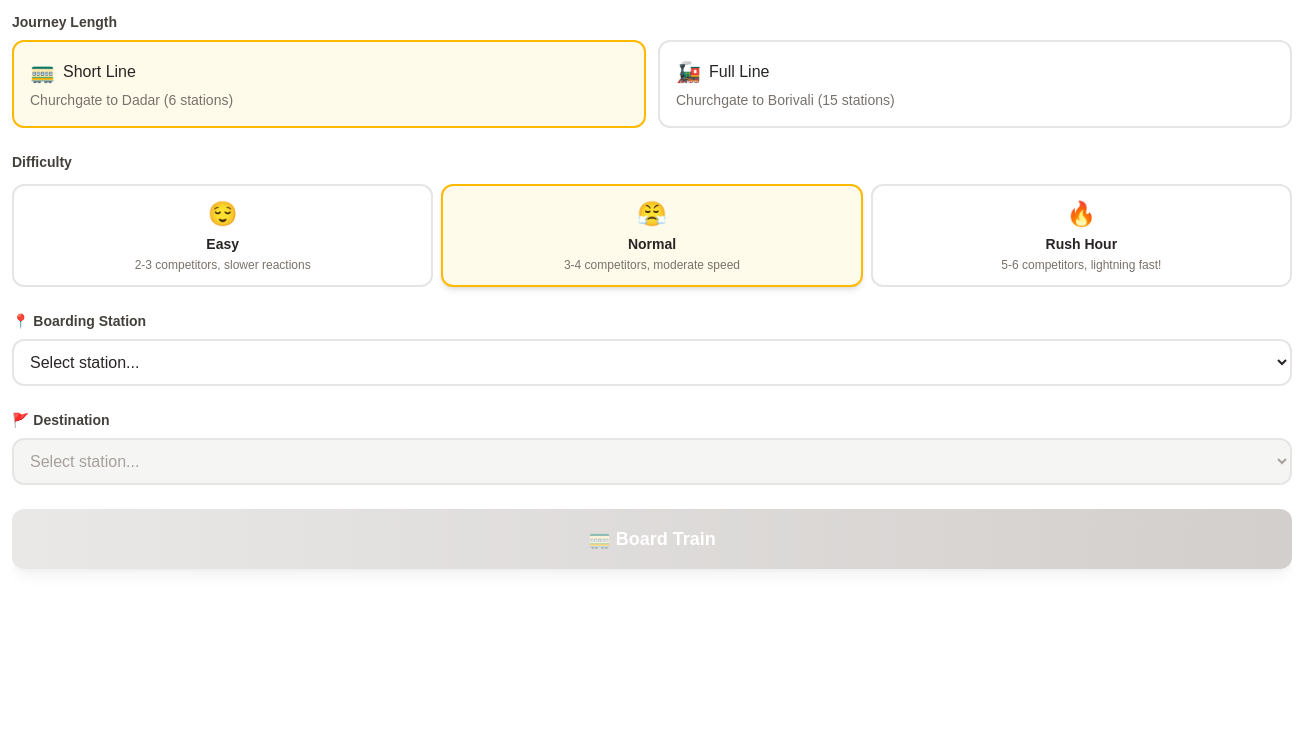
StationSelectForm › button state › disables button again when destination is cleared
# Select both
Select "Churchgate" in the dropdown labelled "📍 Boarding Station": (652, 362) [12,339,1292,386]
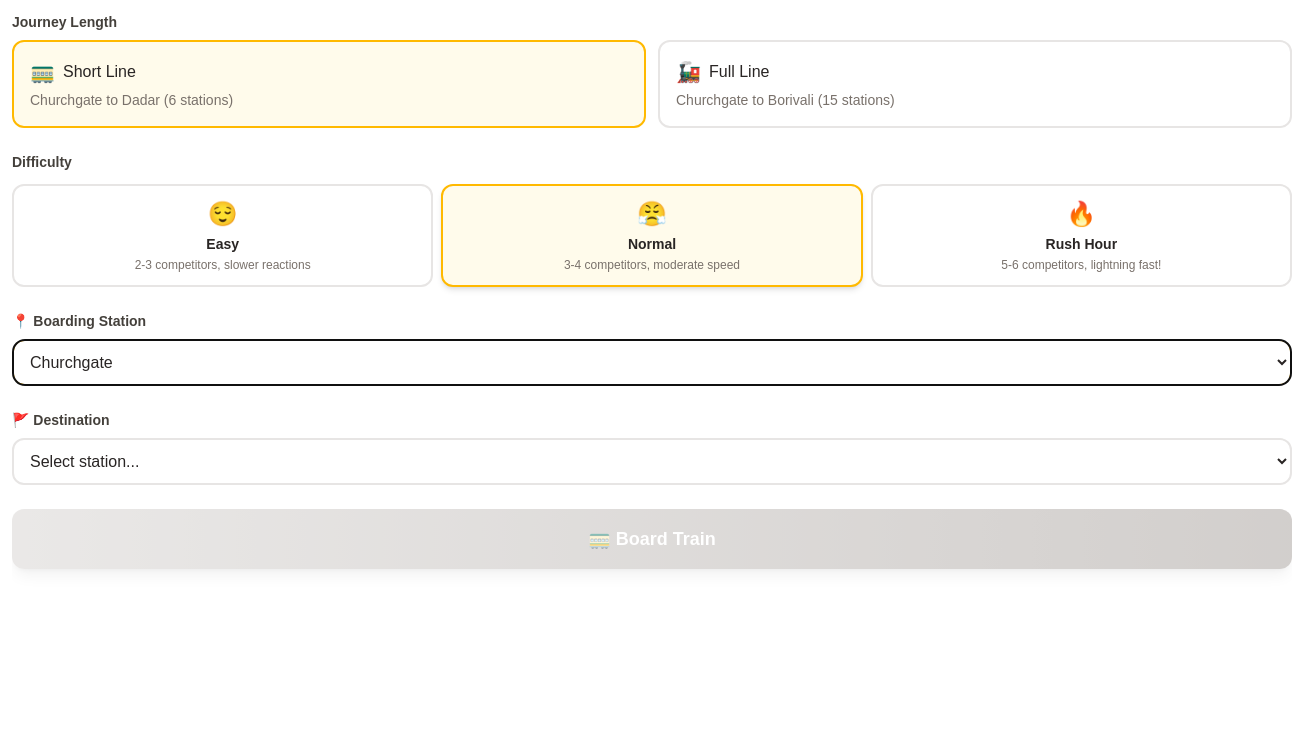
Select "Dadar" in the dropdown labelled "🚩 Destination": (652, 462) [12,438,1292,485]
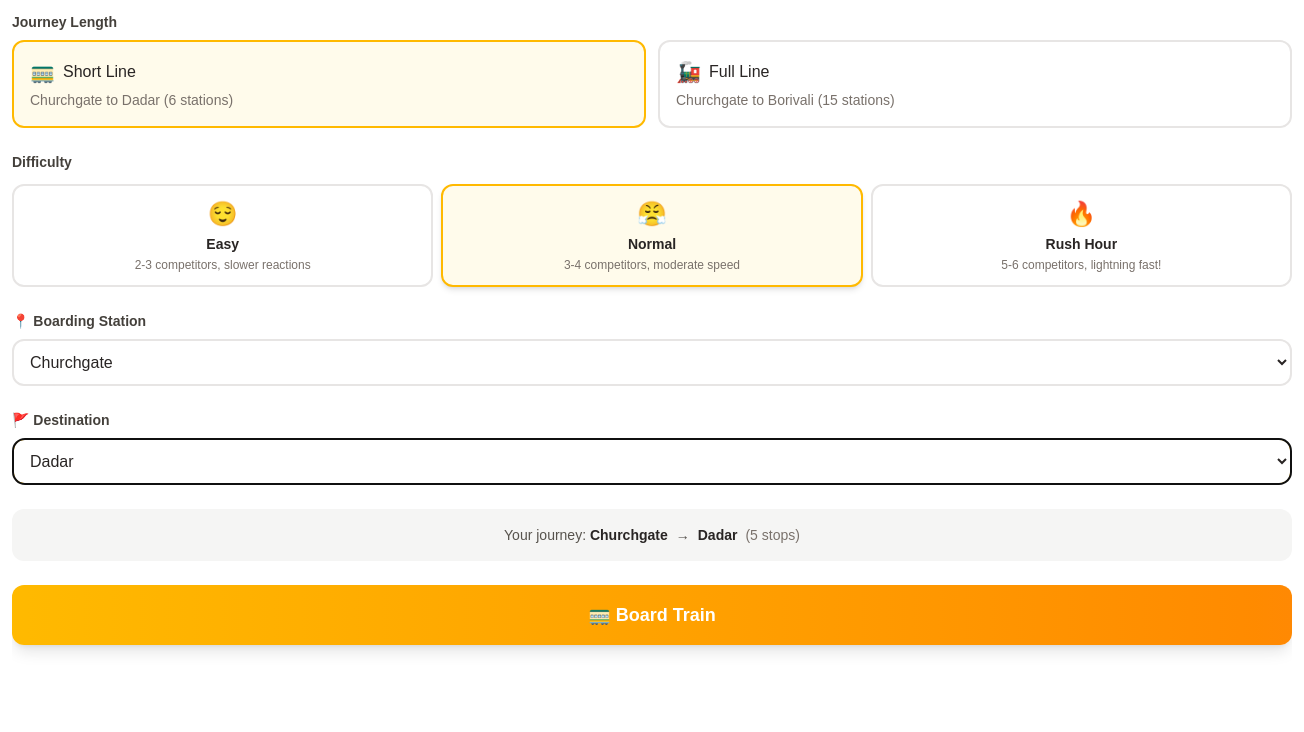
Expected: the button "🚃 Board Train" is enabled, [12,585,1292,645]
# Clear destination
Select "Select station..." in the dropdown labelled "🚩 Destination": (652, 462) [12,438,1292,485]
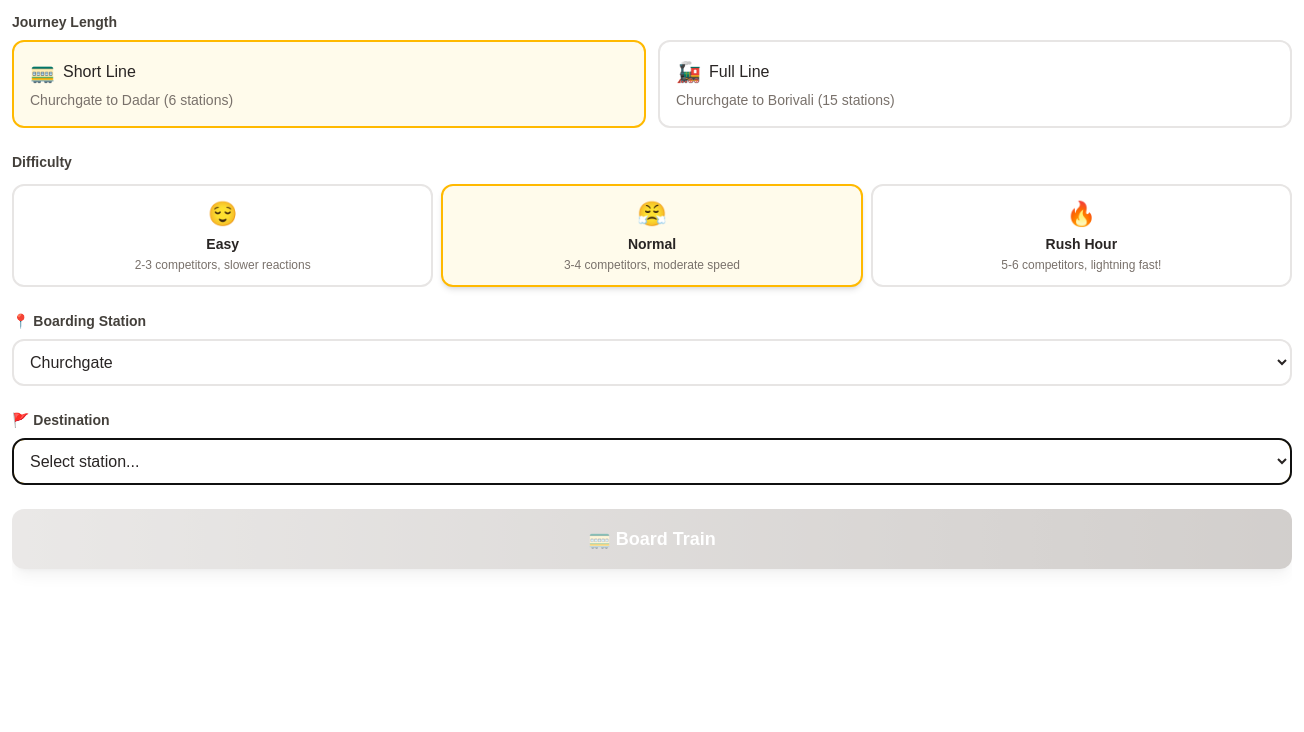
Expected: the button "🚃 Board Train" is disabled, [12,509,1292,569]
